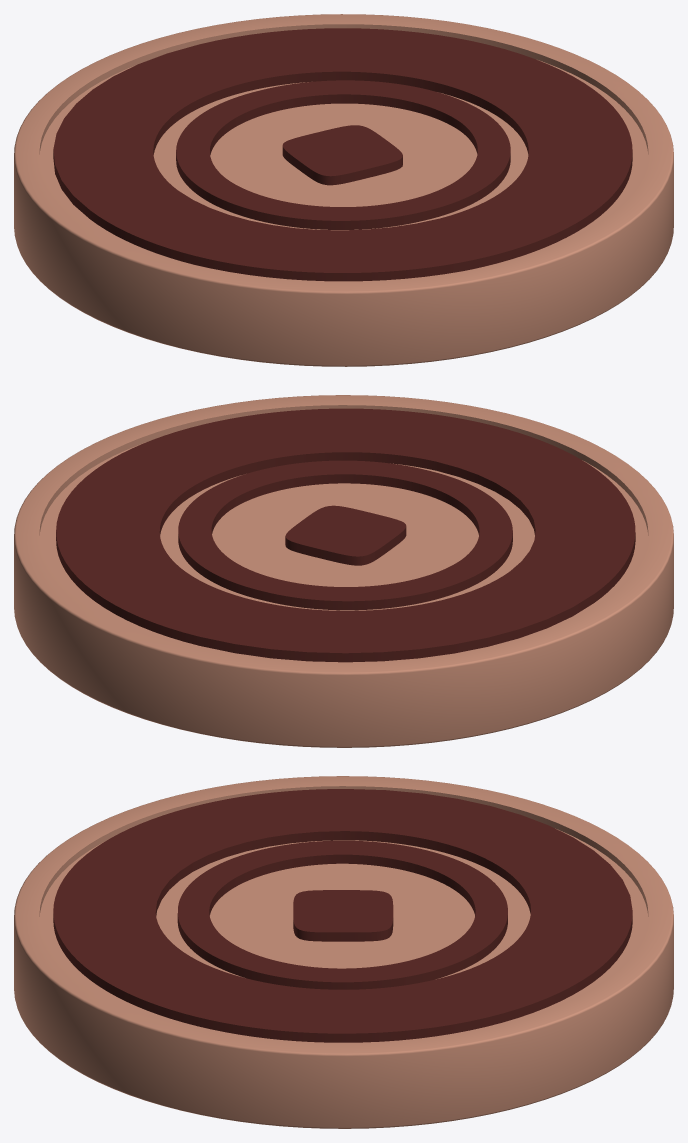
File: Rock_W.fbx
The picture shows the model from 3 angles, top to bottom: view 1: azimuth 30°, elevation 25°; view 2: azimuth 150°, elevation 25°; view 3: azimuth 270°, elevation 25°; orthographic projection.
Visible parts, largest first — view 1: Tile09; view 2: Tile09; view 3: Tile09.
Part boxes in pixels (x1,y1,x2,y2): Tile09: (14,14,673,366); Tile09: (14,395,673,747); Tile09: (14,776,673,1128).
Size of the model in its own units: 13.25 by 1.73 by 13.25.
